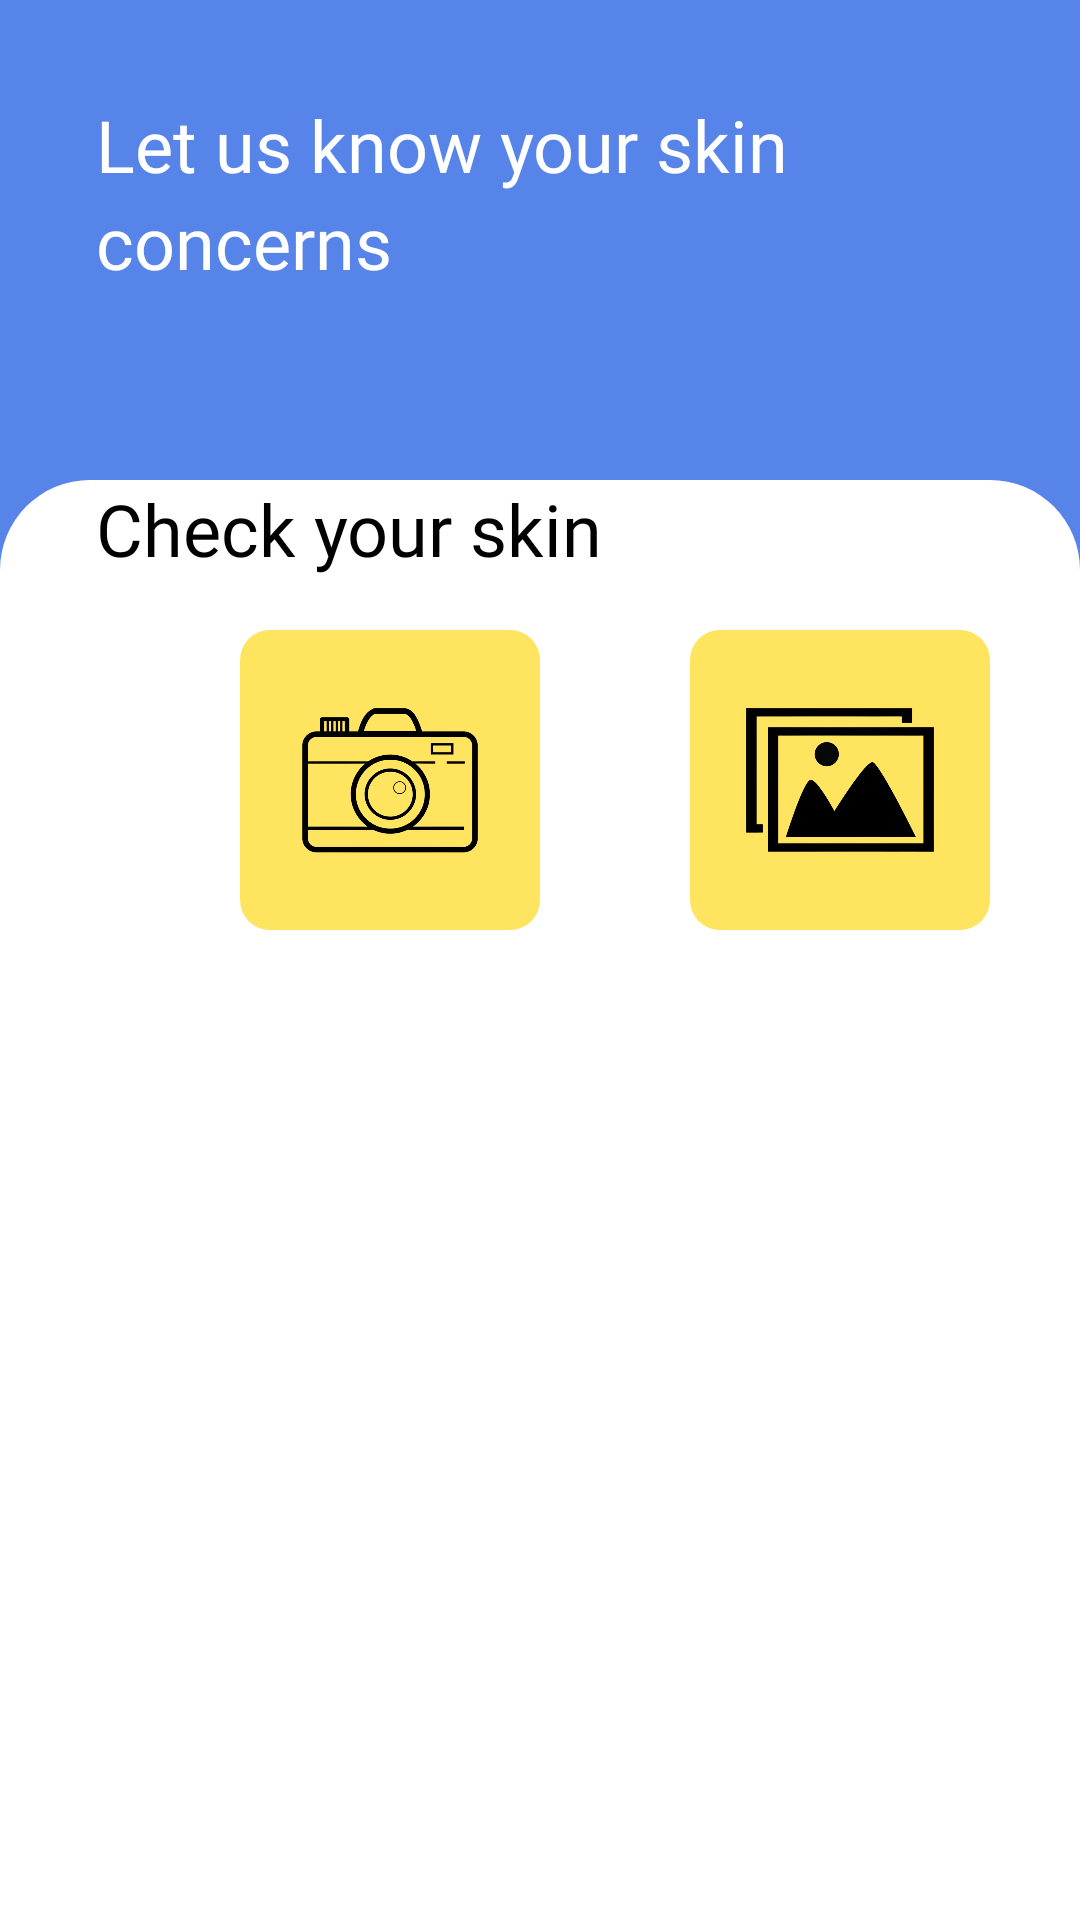

Where to tap for icons on this 1080×1920 app screen, as [x,y]:
cam: [390,780]
gal: [840,780]
